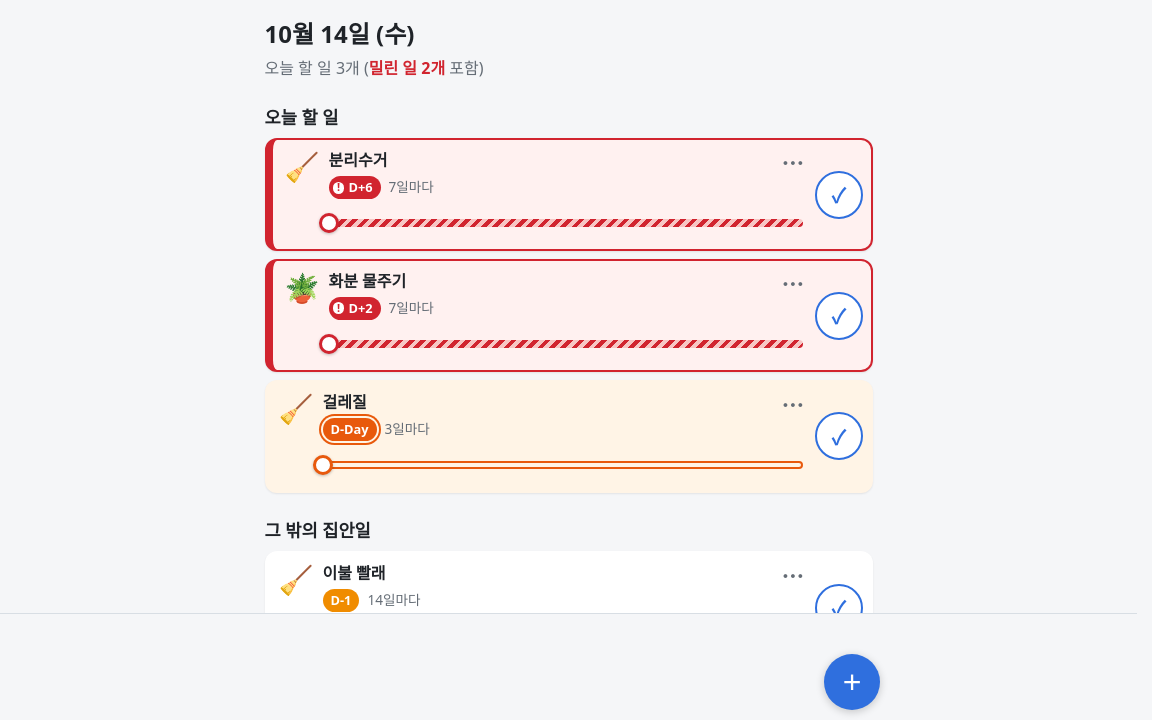
Test case: 완료 체크 (F3) › 위치 이동 애니메이션 › 움직임 줄이기 설정이면 애니메이션을 하지 않는다
What coordinates should you click on to do the following:
click the 1st button "✓"
I would click on:
 (838, 195)
Its box is [814,171,862,219].
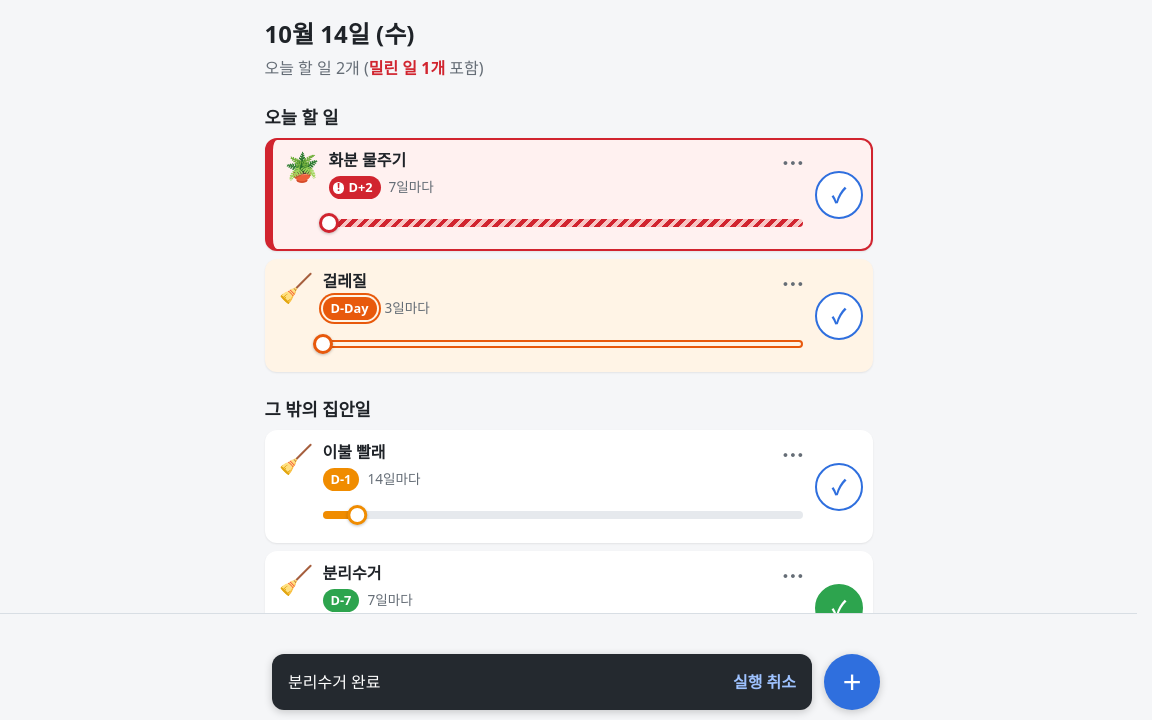
Expected: the text "분리수거 완료" is shown, [288,671,380,693]
